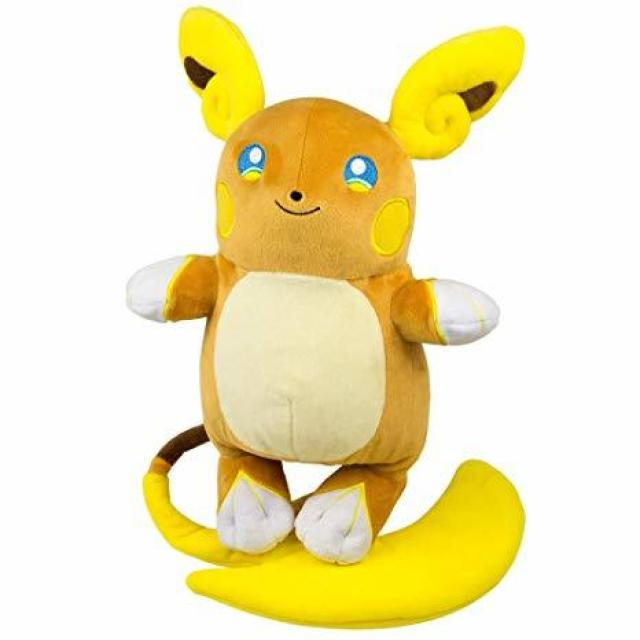Raichu: (178, 10, 524, 628)
